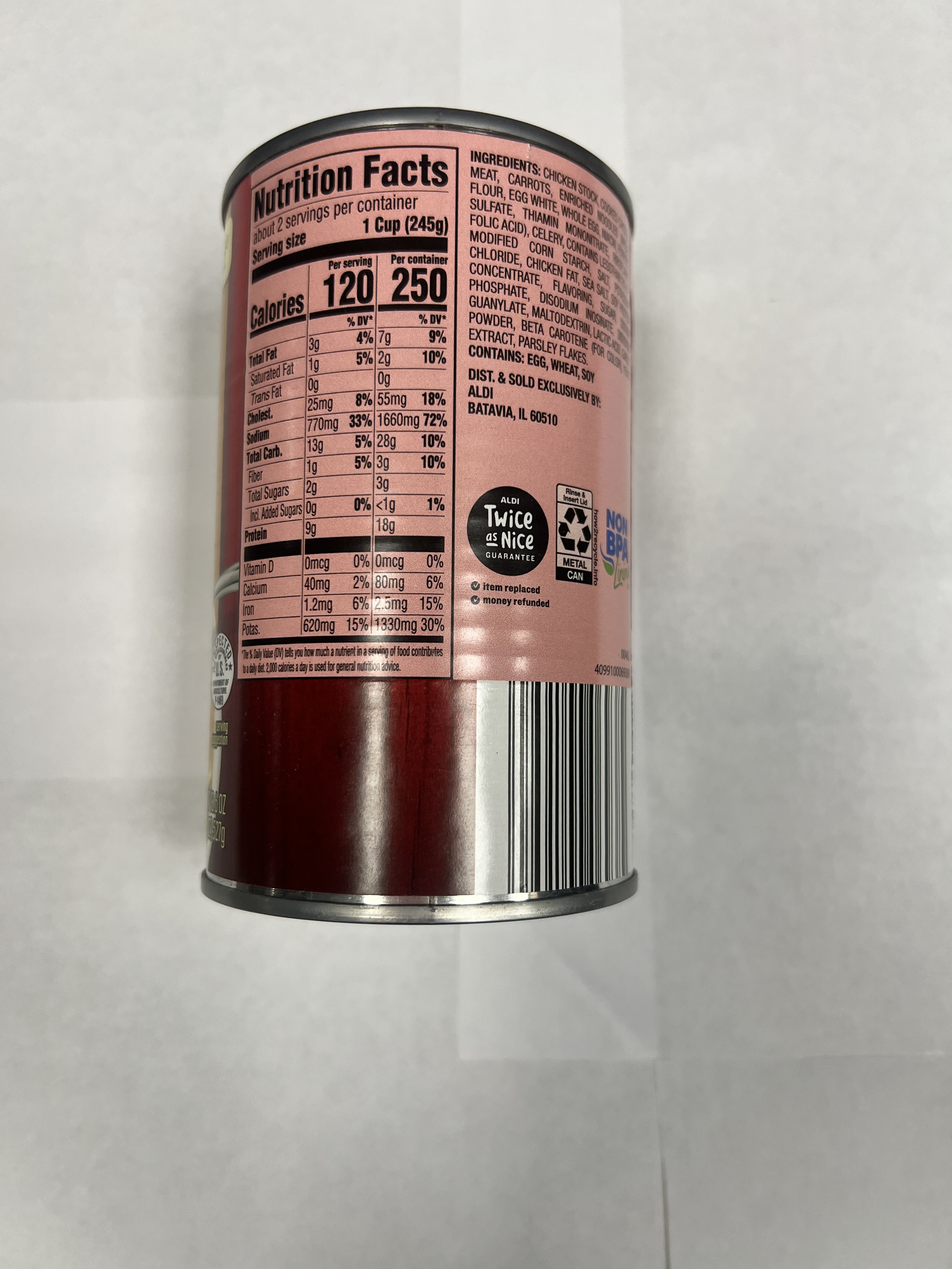produce: (190, 101, 655, 935)
